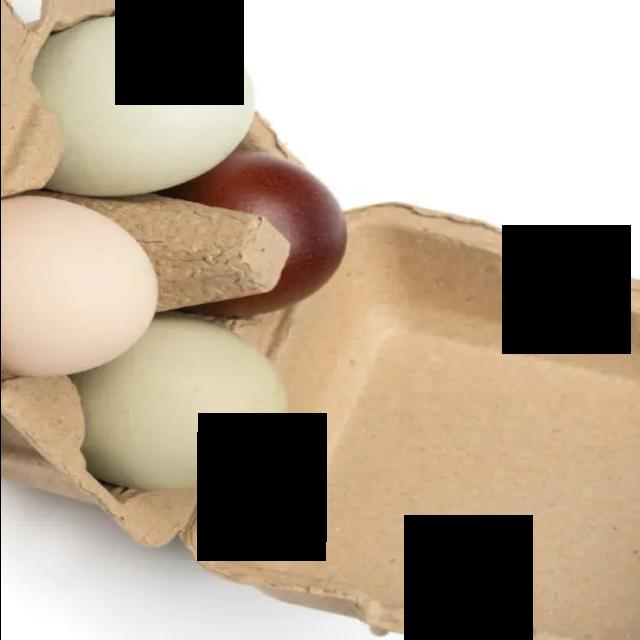eggs: (26, 15, 259, 196), (66, 313, 286, 488), (150, 151, 347, 317), (0, 196, 158, 375)
